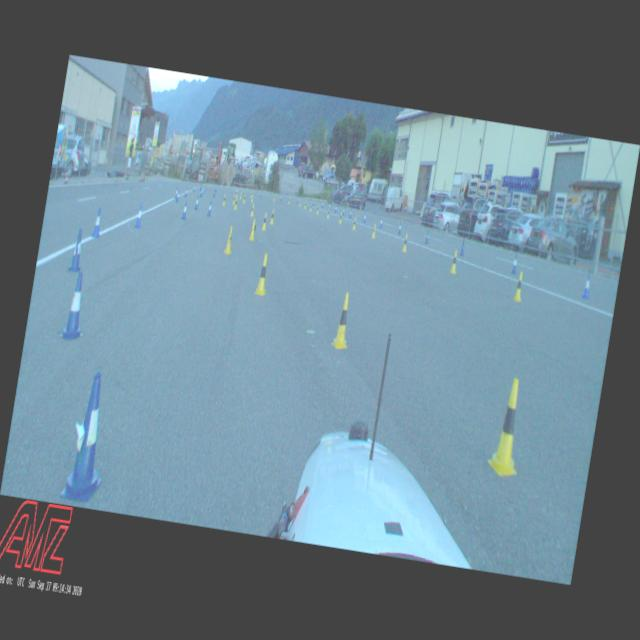blue_cone: (60, 370, 119, 504), (60, 271, 93, 341), (68, 228, 86, 272), (92, 208, 104, 237), (582, 274, 592, 299), (134, 203, 144, 228), (512, 252, 520, 274), (182, 200, 188, 220), (459, 240, 466, 256), (207, 201, 213, 217), (193, 197, 200, 210), (425, 230, 430, 243), (379, 218, 384, 228), (363, 212, 367, 224), (398, 222, 402, 234), (176, 190, 180, 202), (175, 188, 178, 198), (185, 188, 188, 198), (349, 209, 352, 218), (200, 189, 203, 197), (213, 188, 216, 196), (334, 205, 337, 212), (342, 208, 345, 215)
yellow_cone: (486, 376, 532, 479), (330, 292, 356, 349), (254, 253, 272, 296), (512, 272, 526, 302), (224, 226, 235, 255), (450, 250, 460, 274), (250, 219, 258, 241), (402, 234, 409, 252), (262, 212, 268, 230), (270, 209, 276, 225), (371, 224, 377, 238), (250, 204, 256, 216), (352, 218, 357, 230), (233, 198, 238, 210), (338, 212, 343, 224), (326, 208, 331, 218), (222, 194, 226, 206), (309, 202, 313, 212), (316, 205, 320, 214), (242, 194, 246, 203), (304, 200, 307, 210), (298, 200, 302, 207), (239, 192, 243, 199), (288, 196, 291, 204), (237, 190, 240, 197), (234, 194, 236, 204), (251, 191, 253, 198)
